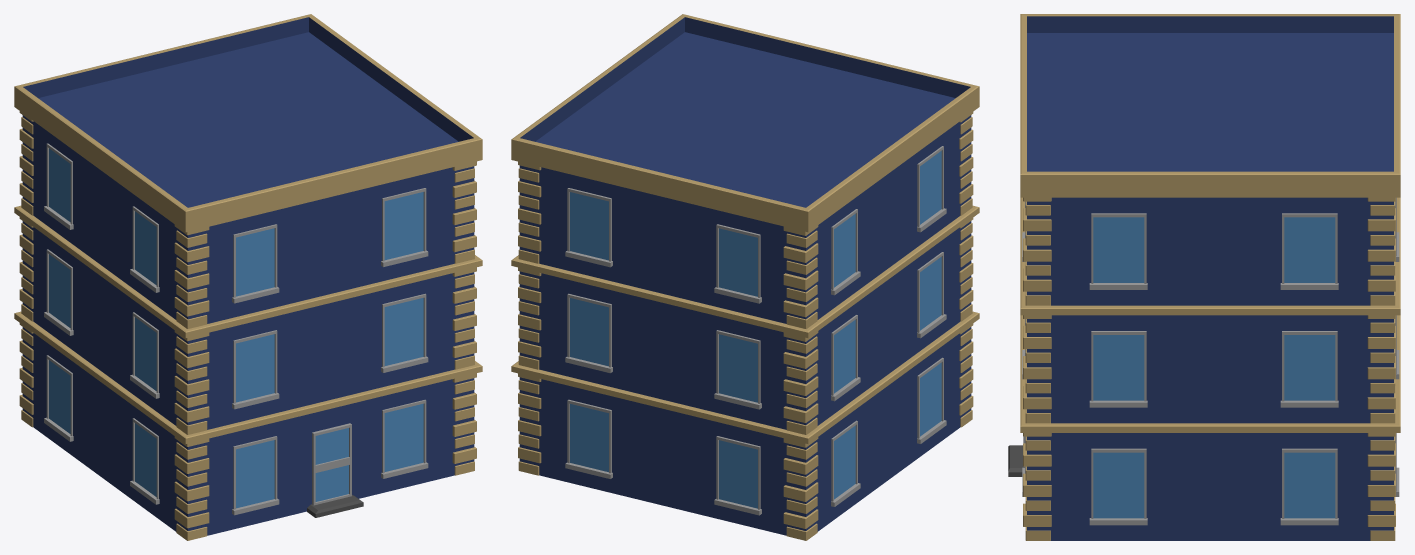
Rendered from GebouwBlauwLaagZonderTrap.fbx.
3 views of the same model, side by side, from view 1: azimuth 30°, elevation 25°; view 2: azimuth 150°, elevation 25°; view 3: azimuth 270°, elevation 25° (orthographic). The views are drawn at different scales.
Parts seen in each view (by area): view 1: gebouwBlauwLaagZonderTrap; view 2: gebouwBlauwLaagZonderTrap; view 3: gebouwBlauwLaagZonderTrap.
Part boxes in pixels (<box>): gebouwBlauwLaagZonderTrap: <box>14,14,482,540</box>; gebouwBlauwLaagZonderTrap: <box>511,14,979,540</box>; gebouwBlauwLaagZonderTrap: <box>1008,14,1400,540</box>.
Size of the model in its own units: 622 by 667 by 642.
